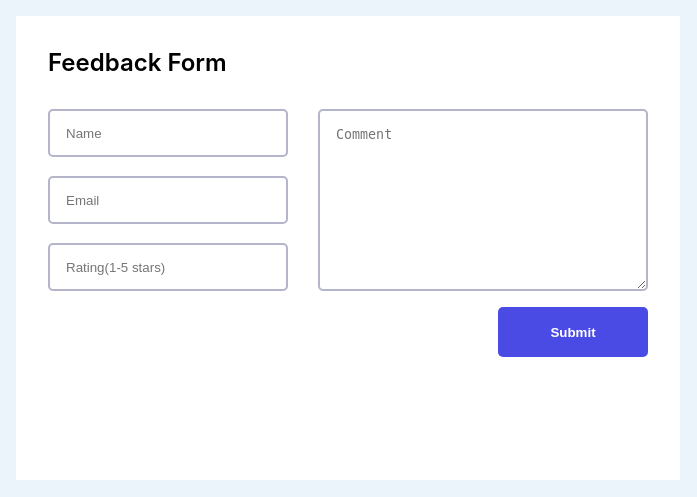
Test case: App › renders an error message with an empty form and doesn't redirect
Click the button "Submit": (573, 332) [498,307,648,357]
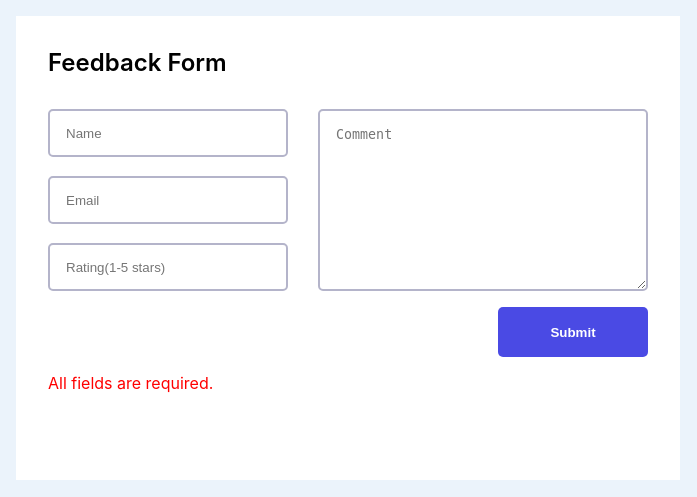
Result: the text "All fields are required." is shown at [48,373,213,393]
